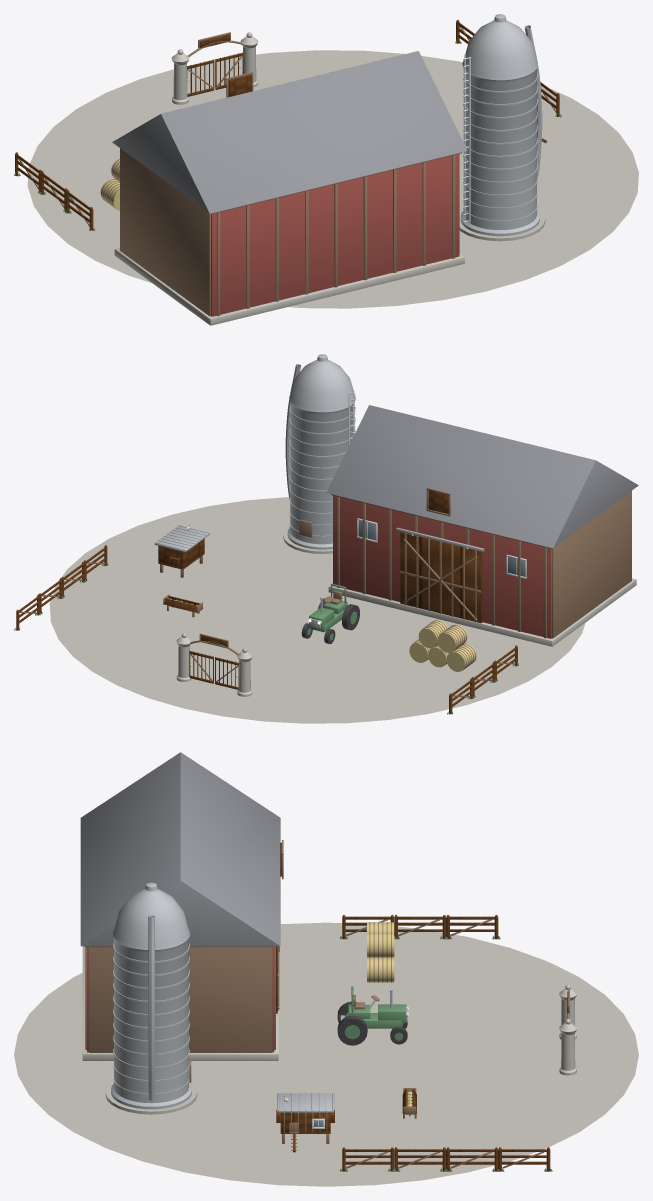
The model's file is th38_hof.glb.
3 renders of one model, top to bottom at view 1: azimuth 30°, elevation 25°; view 2: azimuth 150°, elevation 25°; view 3: azimuth 270°, elevation 25°, orthographic. The views are drawn at different scales.
Visible parts, largest first — view 1: Circle, Dach, Cube.001, Rumpf, Cube.020, Cube, Pfeiler, Fundament, Fuellrohr, Pfeiler.001, Cube.012; view 2: Circle, Dach, Cube.001, Rumpf, Cube.020, Cube.023, Cube, Cube.068, Cube.060, Pfeiler, Pfeiler.001; view 3: Circle, Dach, Rumpf, Cube.021, Cube, Fuellrohr, Cube.068, Cube.060, Pfeiler.001, Fundament, Cylinder.071, Cylinder.089.
Part boxes in pixels (bbox=[...]): Circle: bbox=[27, 50, 638, 308]; Dach: bbox=[112, 51, 467, 213]; Cube.001: bbox=[211, 154, 459, 316]; Rumpf: bbox=[460, 20, 539, 236]; Cube.020: bbox=[120, 148, 210, 316]; Cube: bbox=[114, 248, 464, 325]; Pfeiler: bbox=[171, 53, 189, 104]; Fundament: bbox=[459, 209, 545, 241]; Fuellrohr: bbox=[524, 25, 542, 183]; Pfeiler.001: bbox=[240, 36, 258, 87]; Cube.012: bbox=[363, 176, 367, 280]; Circle: bbox=[49, 497, 585, 723]; Dach: bbox=[326, 405, 638, 548]; Cube.001: bbox=[333, 495, 551, 638]; Rumpf: bbox=[287, 359, 355, 549]; Cube.020: bbox=[552, 491, 631, 638]; Cube.023: bbox=[400, 532, 482, 623]; Cube: bbox=[328, 578, 636, 646]; Cube.068: bbox=[154, 526, 210, 552]; Cube.060: bbox=[158, 538, 204, 567]; Pfeiler: bbox=[237, 651, 252, 696]; Pfeiler.001: bbox=[176, 636, 191, 681]; Circle: bbox=[14, 922, 638, 1186]; Dach: bbox=[80, 752, 280, 946]; Rumpf: bbox=[111, 889, 191, 1109]; Cube.021: bbox=[89, 947, 272, 1052]; Cube: bbox=[82, 946, 278, 1060]; Fuellrohr: bbox=[148, 915, 154, 1100]; Cube.068: bbox=[277, 1093, 334, 1112]; Cube.060: bbox=[280, 1112, 330, 1132]; Pfeiler.001: bbox=[559, 1023, 577, 1075]; Fundament: bbox=[105, 1082, 197, 1114]; Cylinder.071: bbox=[367, 957, 393, 982]; Cylinder.089: bbox=[367, 933, 393, 957].
Size of the model in its own units: 30 by 11.2 by 30.
Materials: 59 (11 with a texture image).
